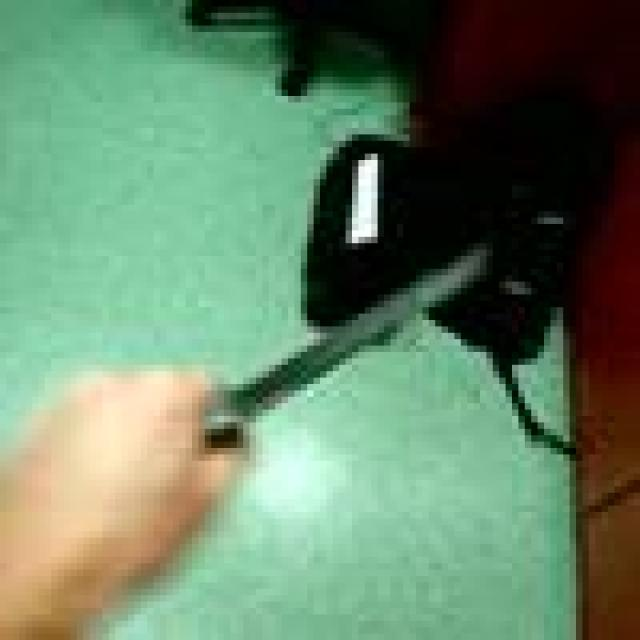knife: (194, 247, 499, 439)
